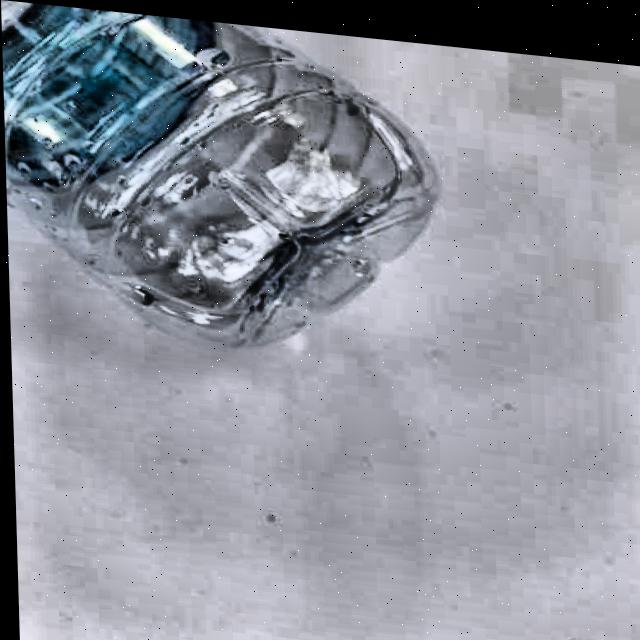plastic: (0, 0, 454, 377)
